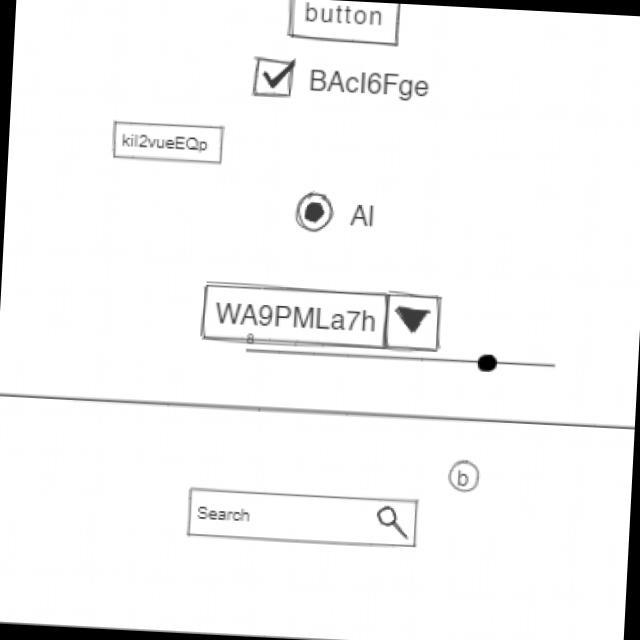button: (282, 0, 405, 47)
checkbox: (249, 51, 434, 112)
container: (0, 387, 635, 640)
icon-button: (444, 458, 484, 496)
input: (108, 118, 230, 167)
radio: (288, 188, 378, 238)
search: (183, 486, 421, 552)
select: (198, 277, 448, 356)
slider: (256, 342, 560, 377)
